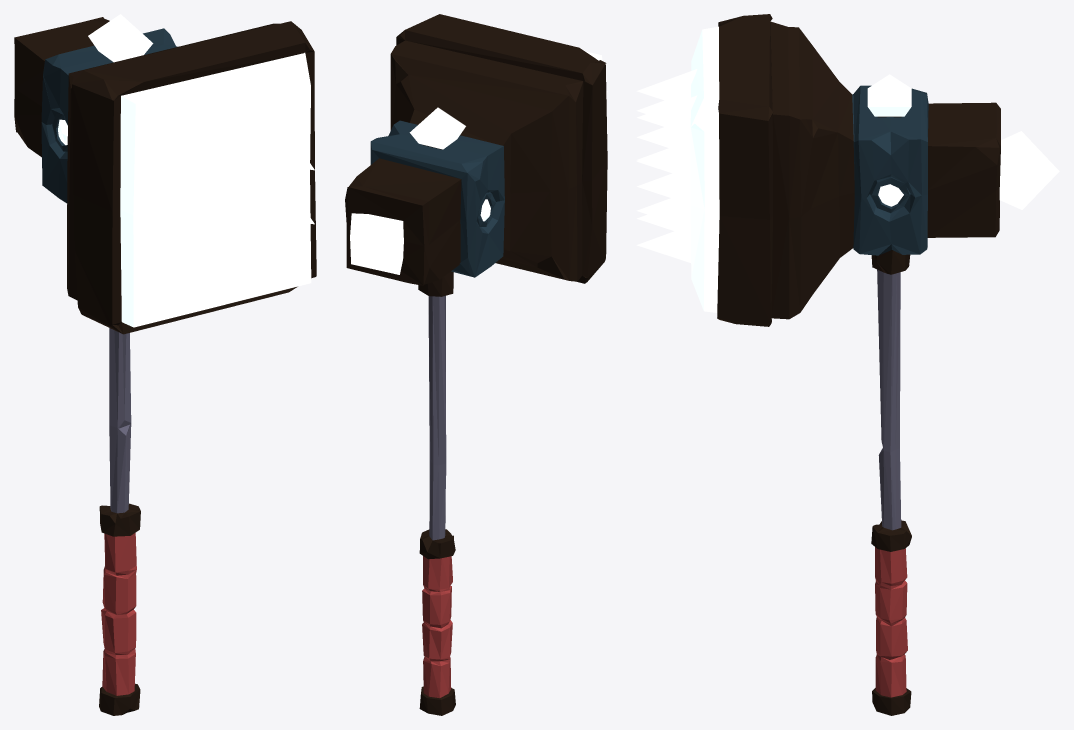
The model's file is SFFA_Weapon_Hammer_Runical_003.fbx.
3 views of the same model, side by side, from view 1: azimuth 30°, elevation 25°; view 2: azimuth 150°, elevation 25°; view 3: azimuth 270°, elevation 25° (orthographic). The views are drawn at different scales.
Parts seen in each view (by area): view 1: SFFA_Weapon_Hammer_Runical_003; view 2: SFFA_Weapon_Hammer_Runical_003; view 3: SFFA_Weapon_Hammer_Runical_003.
Boxes of the visible parts, x1,y1,x2,y2 form: SFFA_Weapon_Hammer_Runical_003: [14, 14, 316, 715]; SFFA_Weapon_Hammer_Runical_003: [345, 14, 607, 715]; SFFA_Weapon_Hammer_Runical_003: [636, 14, 1059, 715].
Size of the model in its own units: 28.69 by 85.72 by 50.42.
